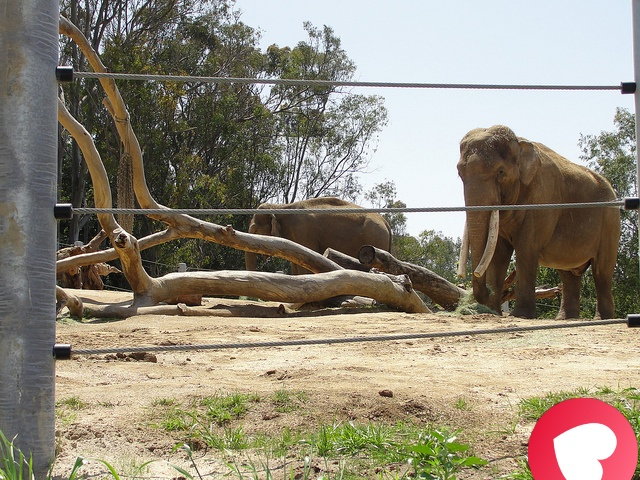love: (528, 398, 638, 480)
